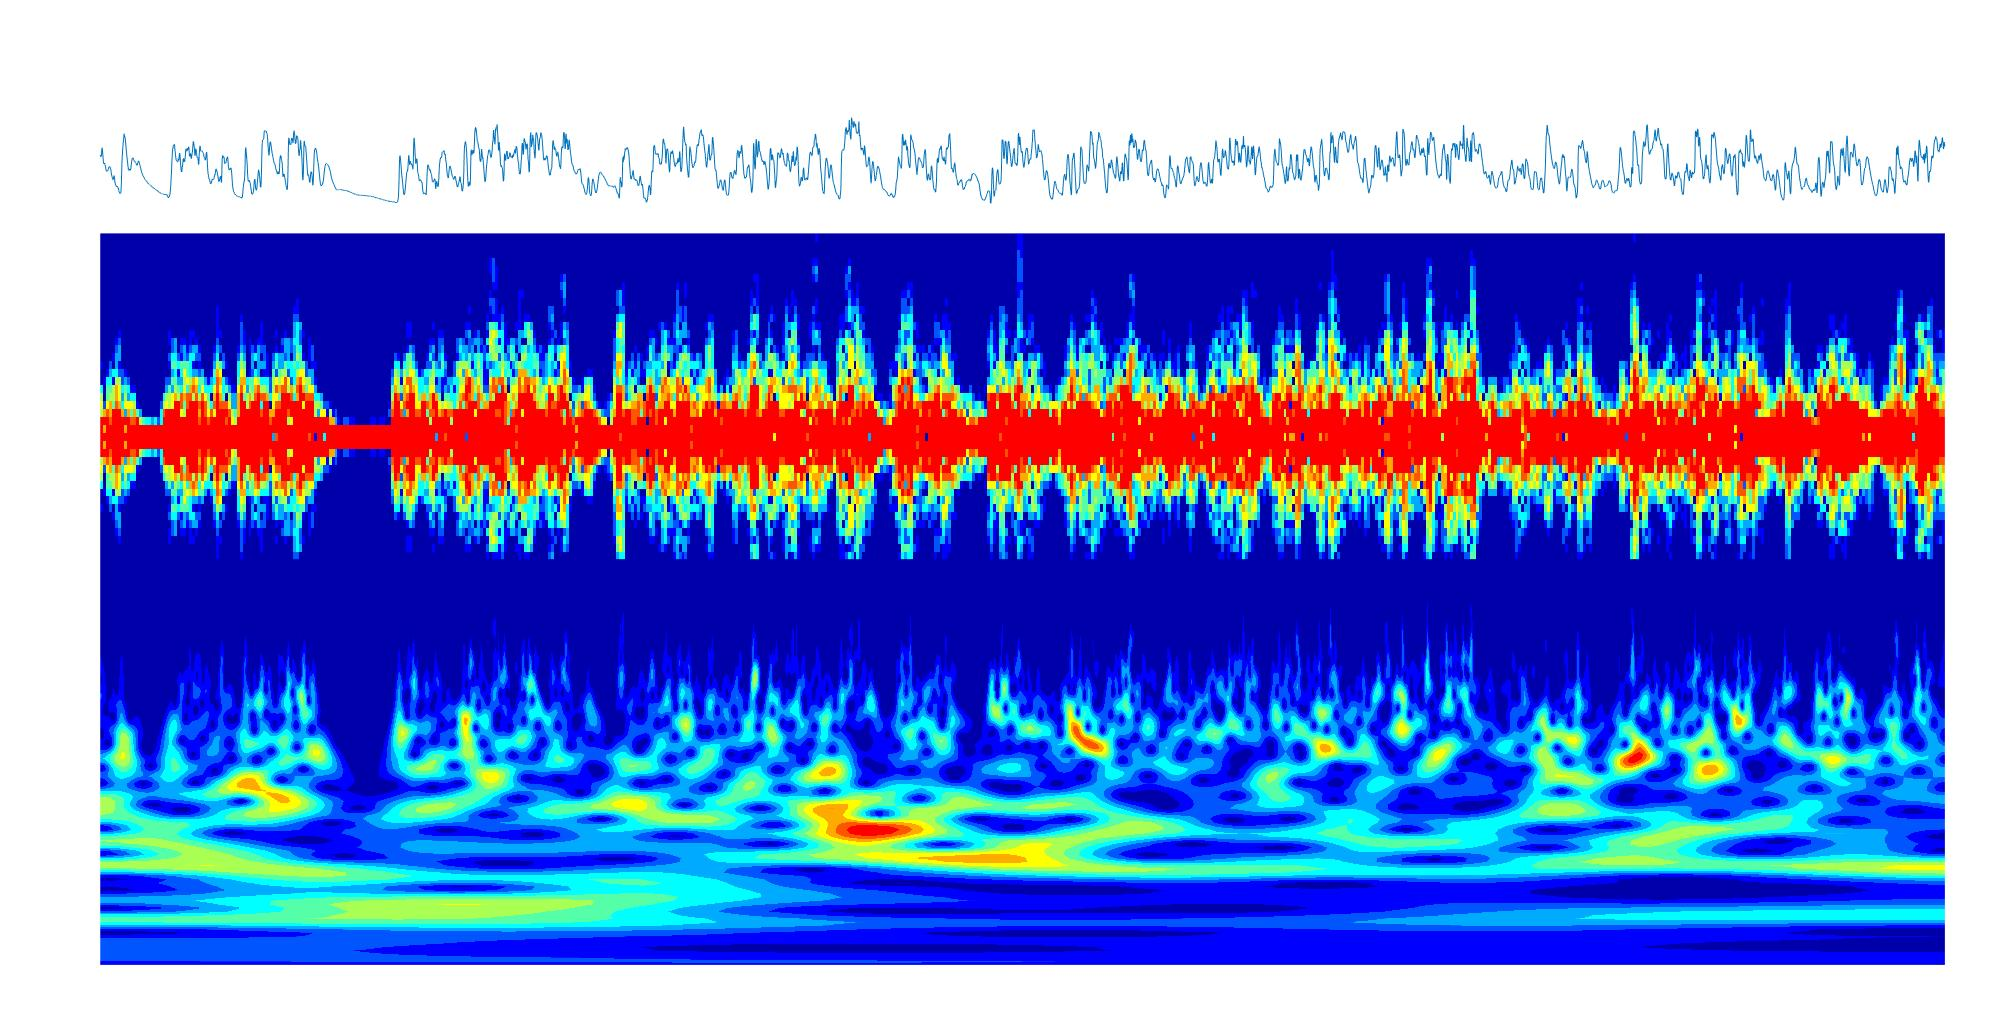TURBULENT: (988, 232, 1477, 968), (1482, 232, 1945, 965), (617, 235, 869, 963), (389, 235, 572, 963), (168, 237, 321, 964), (894, 236, 960, 965)
